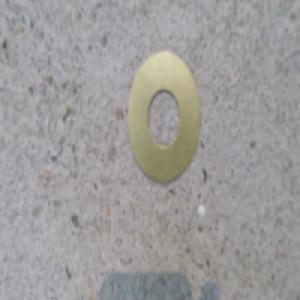Washer: (125, 49, 202, 184)
